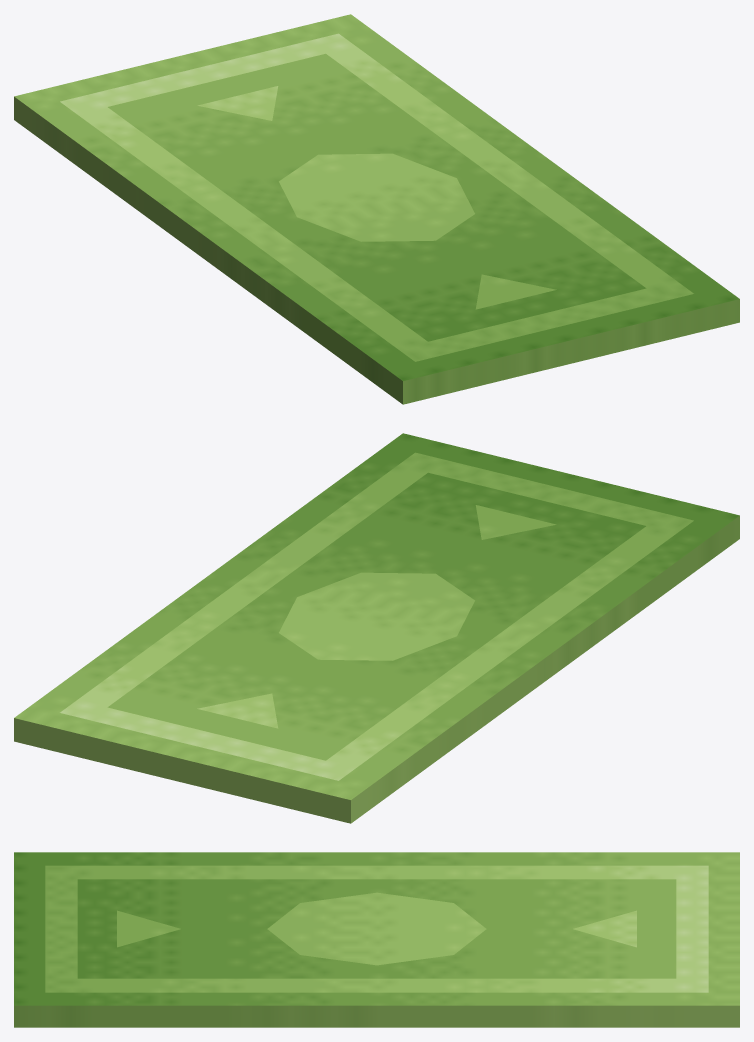
Rendered from Money_Bill.gltf.
3 renders of one model, top to bottom at view 1: azimuth 30°, elevation 25°; view 2: azimuth 150°, elevation 25°; view 3: azimuth 270°, elevation 25°, orthographic. The views are drawn at different scales.
Parts seen in each view (by area): view 1: Money_Bill; view 2: Money_Bill; view 3: Money_Bill.
Part boxes in pixels (bbox=[...]): Money_Bill: bbox=[14, 14, 739, 404]; Money_Bill: bbox=[14, 433, 739, 823]; Money_Bill: bbox=[14, 852, 739, 1027].
Size of the model in its own units: 0.3 by 0.02 by 0.6.
Materials: 1 (1 with a texture image).
